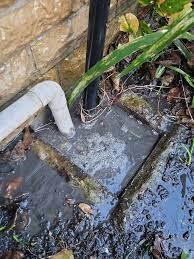Blocked drain: (19, 44, 194, 259)
